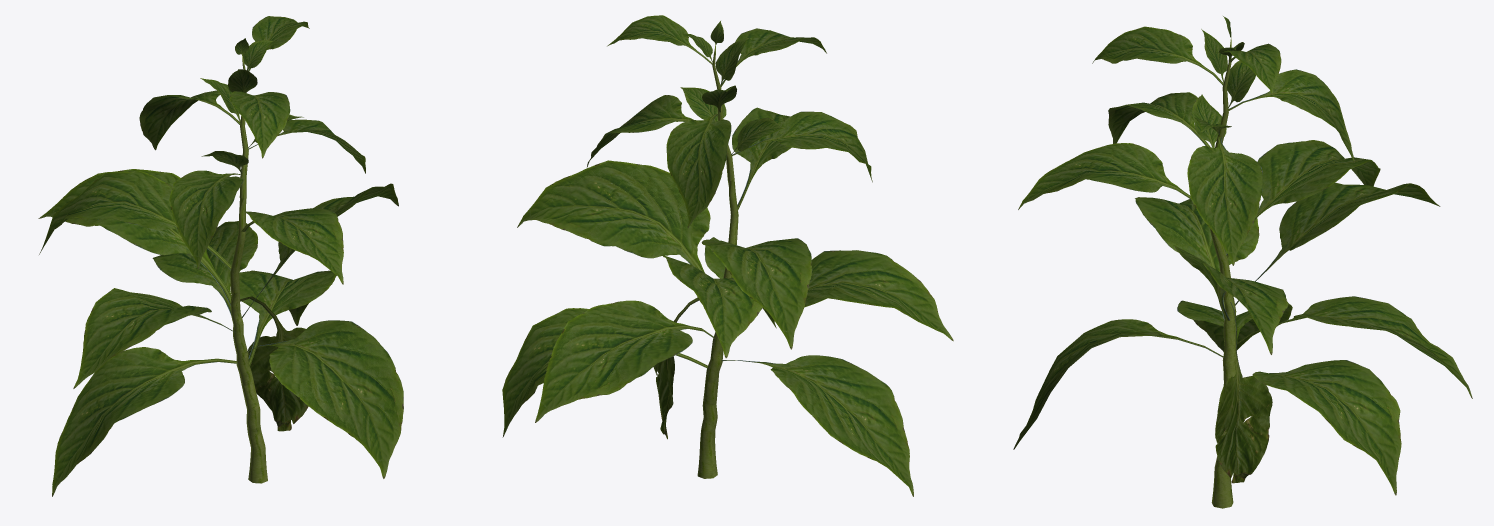
The picture shows the model from 3 angles, left to right: view 1: azimuth 30°, elevation 25°; view 2: azimuth 150°, elevation 25°; view 3: azimuth 270°, elevation 25°; orthographic projection. The views are drawn at different scales.
Visible parts, largest first — view 1: VG07_2; view 2: VG07_2; view 3: VG07_2.
Boxes of the visible parts, box(x1,y1,x2,y2) form: VG07_2: box(38, 16, 403, 496); VG07_2: box(502, 15, 953, 496); VG07_2: box(1013, 16, 1472, 508).
Bounding box in the file's own units: 0.4158 × 0.4294 × 0.3916.
3 materials, 3 textured.
